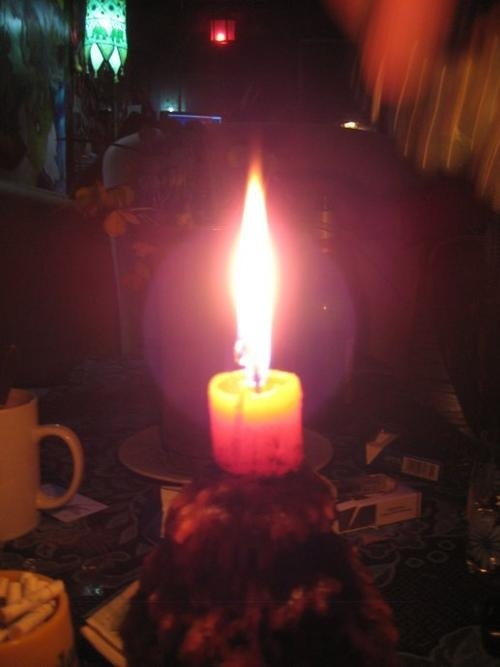fire: (227, 153, 282, 381)
